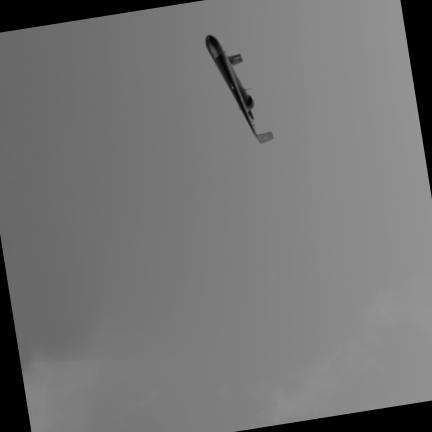Shahed: (205, 35, 273, 142)
